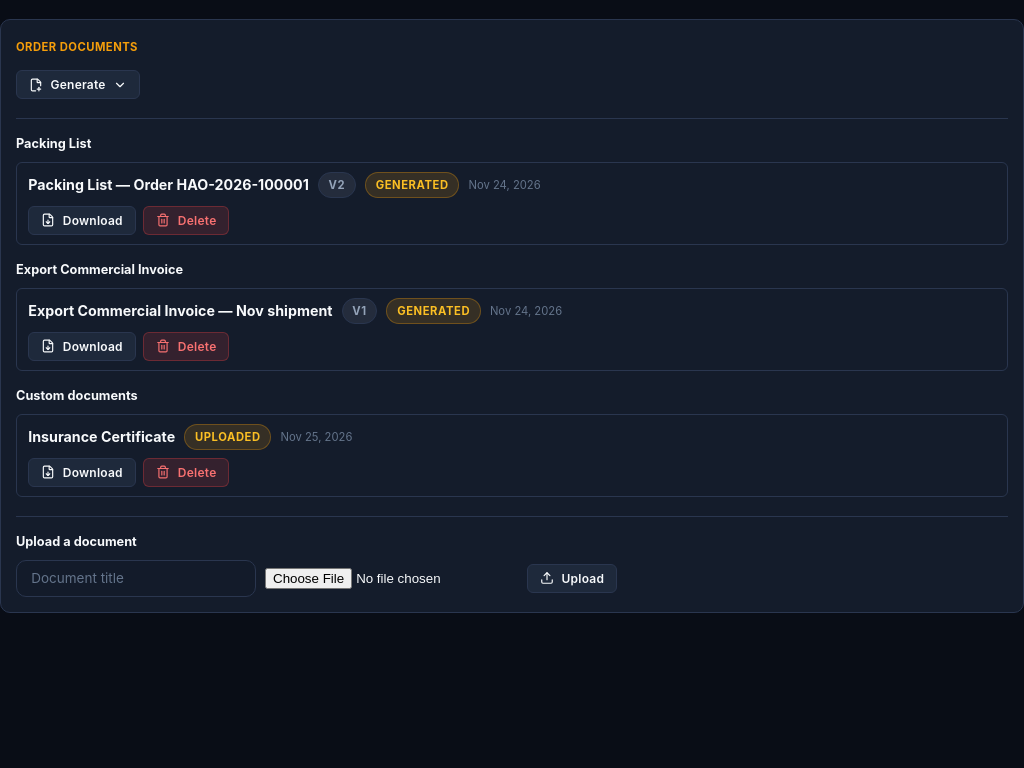
DocumentsPanel — staff delete › shows Delete to staff and deletes after the inline confirm
Click the button "Delete" below "Packing List — Order HAO-2026-100001" at (186,220), box [143, 206, 230, 235]
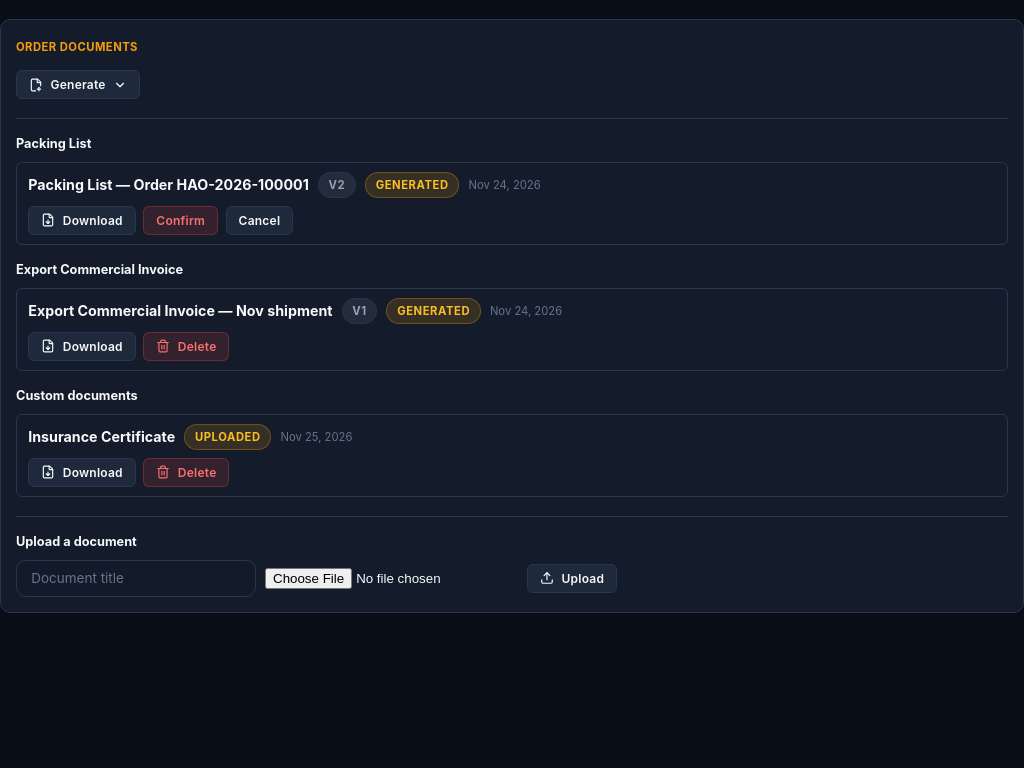
Click the button "Confirm" at (181,220), box [143, 206, 218, 235]
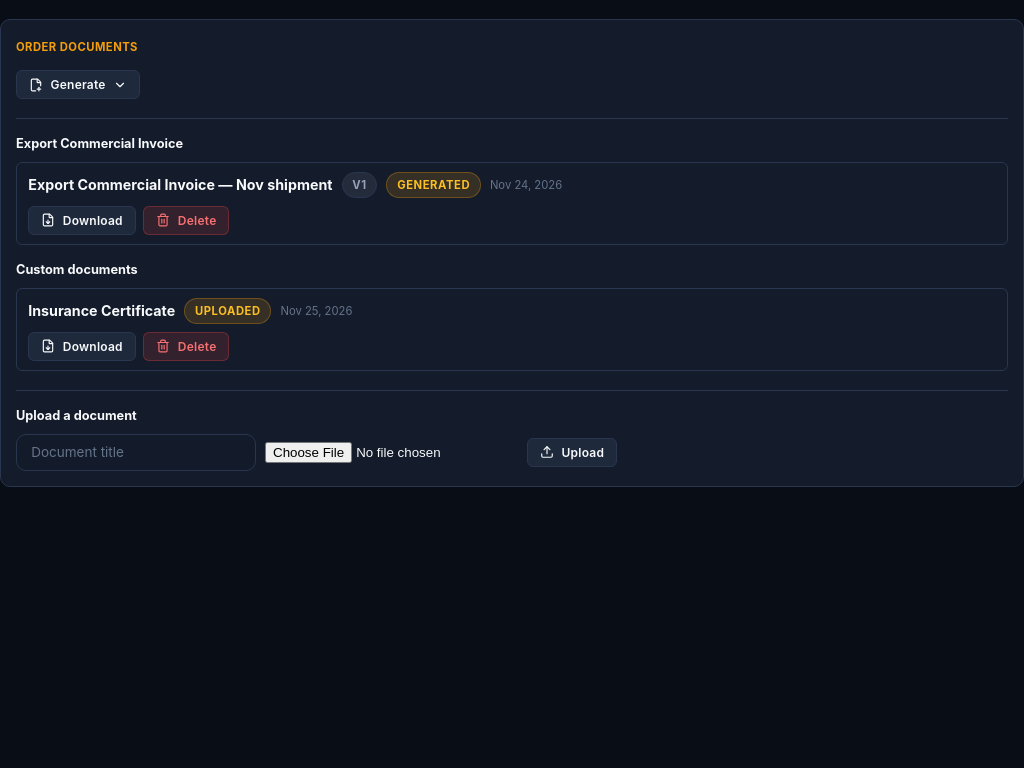
Expected: the text "Packing List — Order HAO-2026-100001" is gone
